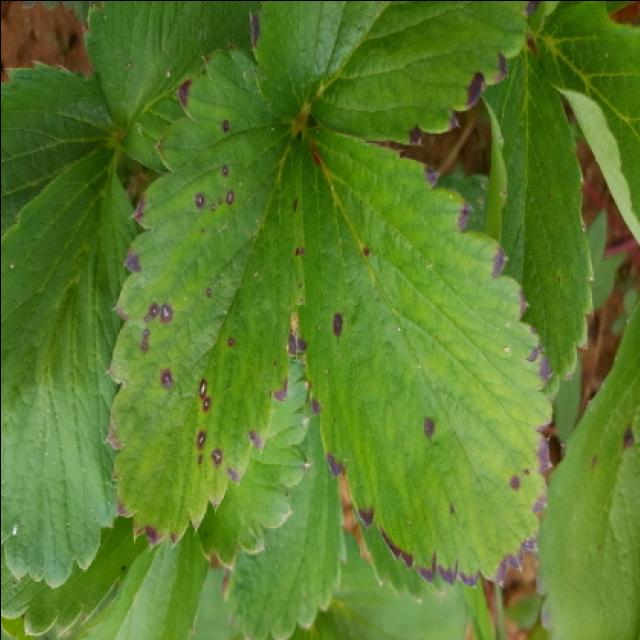Leaf Spot: (293, 126, 553, 589), (100, 38, 306, 548), (531, 292, 640, 640)
